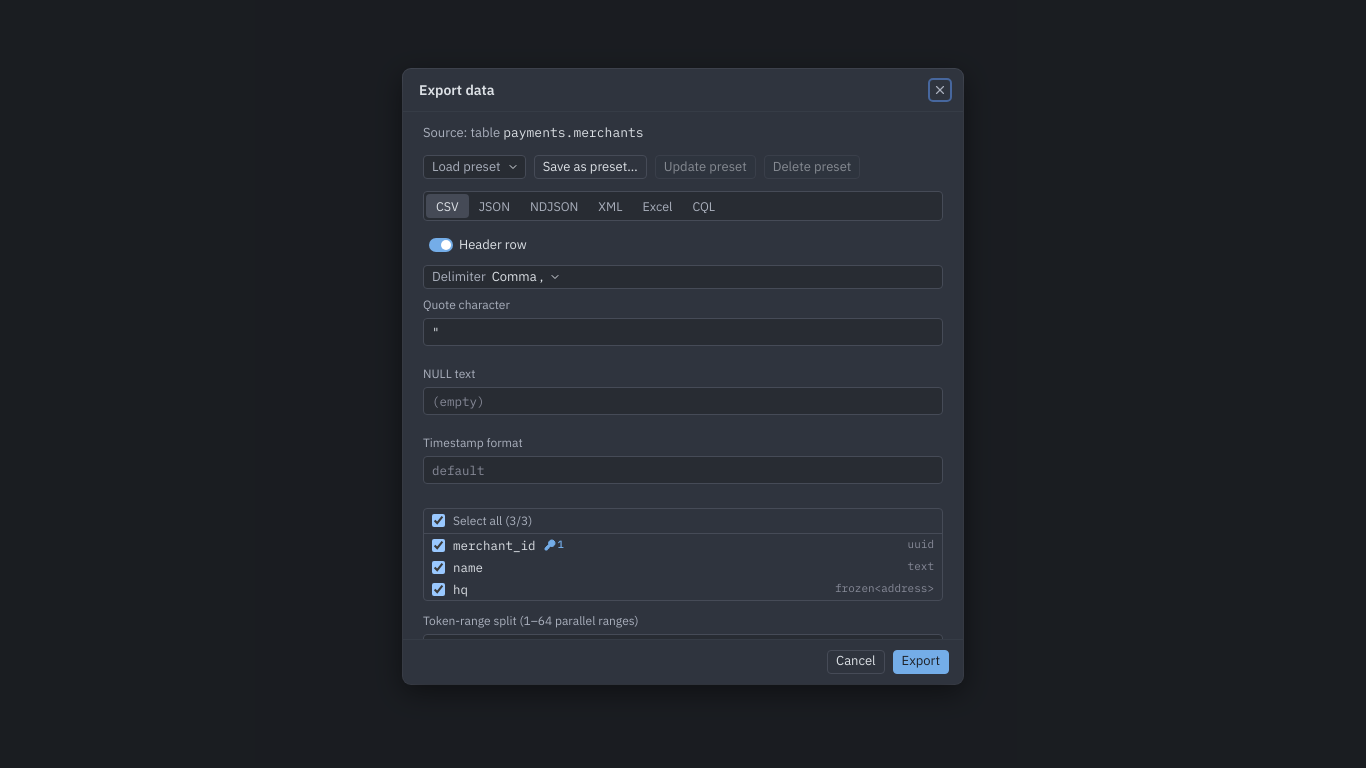
Scenario: ExportDialog › exports a table with the chosen options and downloads the file
Expected: the checkbox labelled "merchant_id 1 uuid" is shown, [432,538,445,552]
Click the checkbox labelled "hq frozen<address>" at (438, 589), box [432,583,445,596]
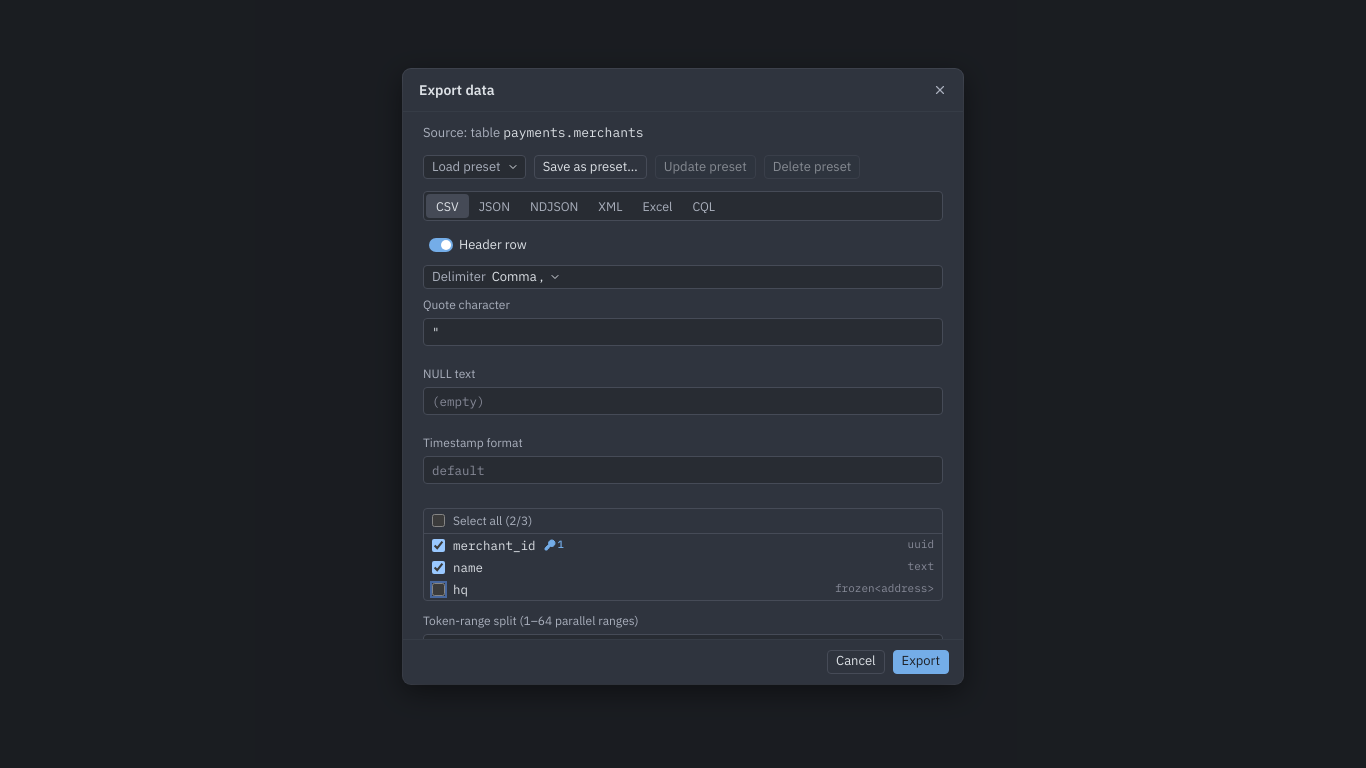
Click the radio button labelled "JSON" at (494, 206), box [469,194,520,218]
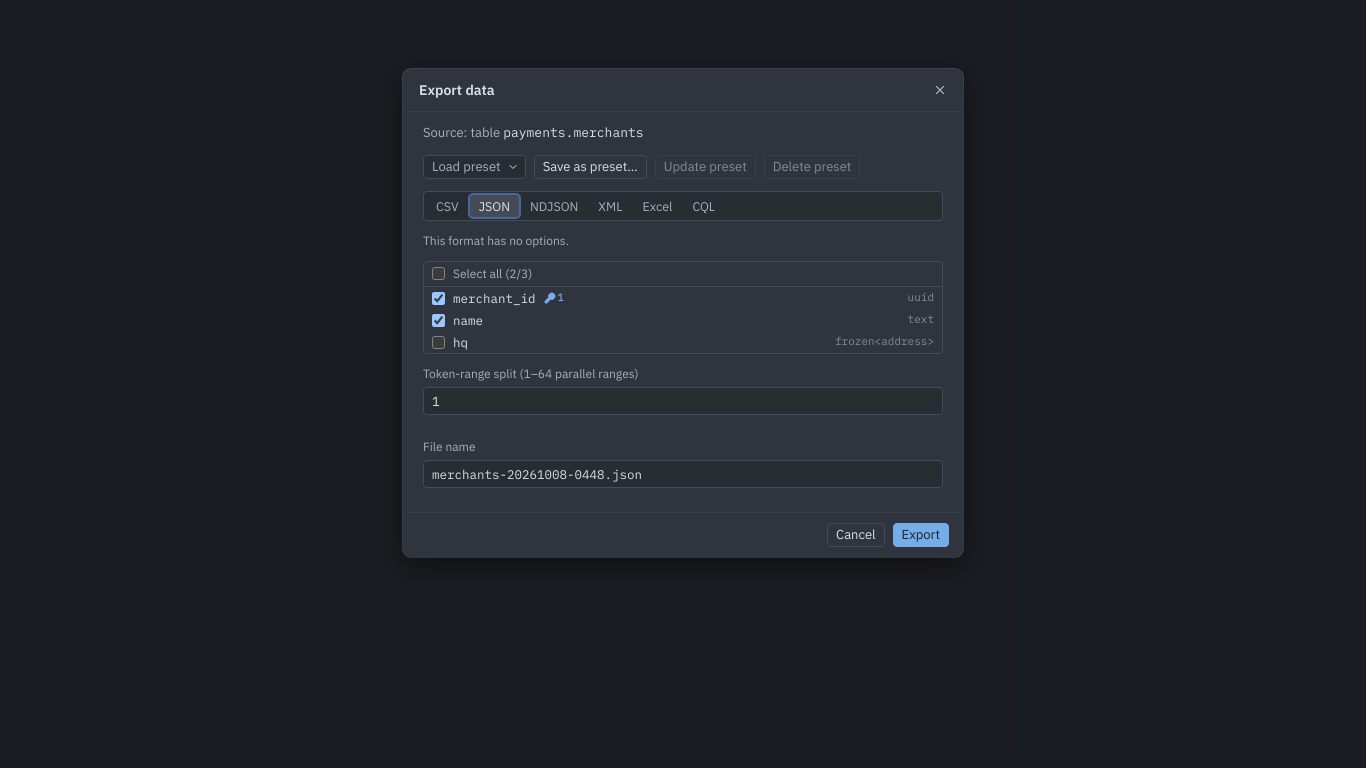
Click the button "Export" at (921, 535), box [893,523,949,547]
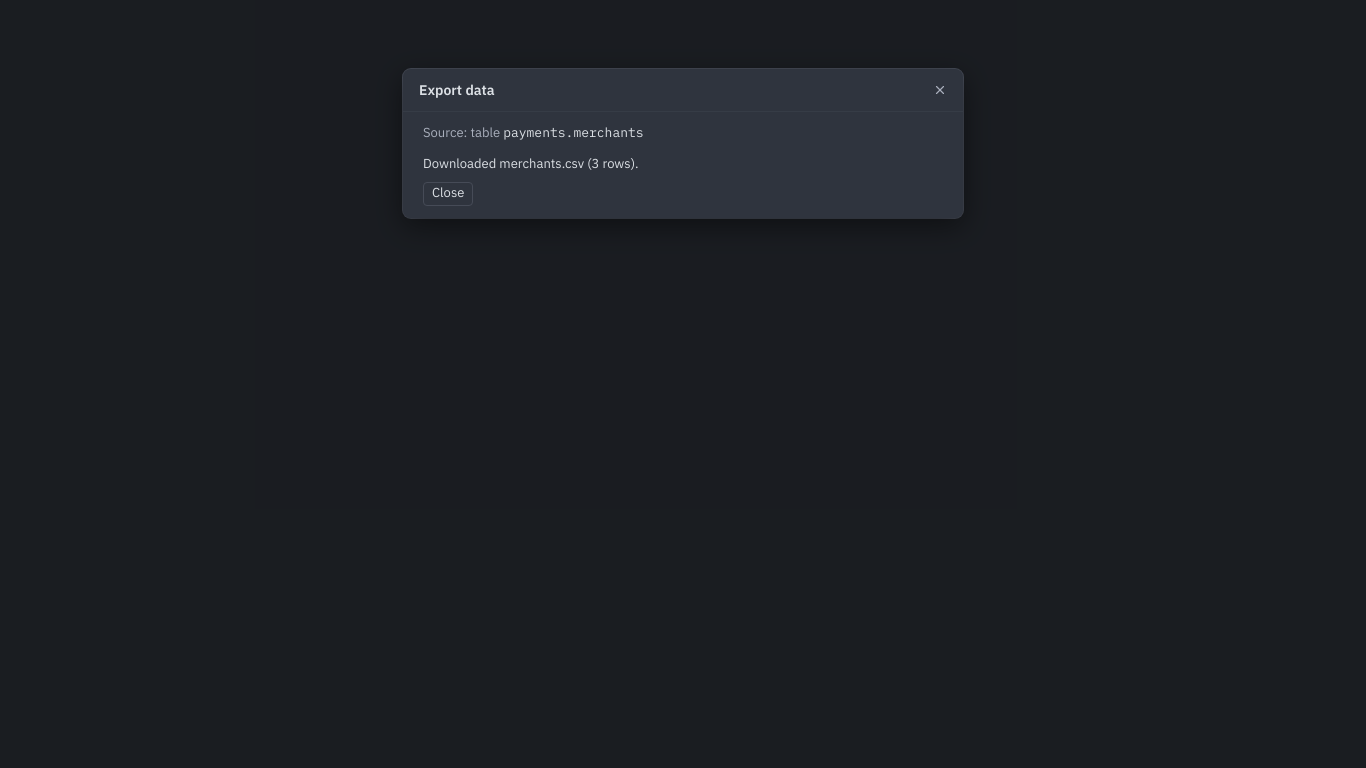
Expected: the text "Downloaded merchants.csv (3 rows)." is shown, [423,155,638,174]
